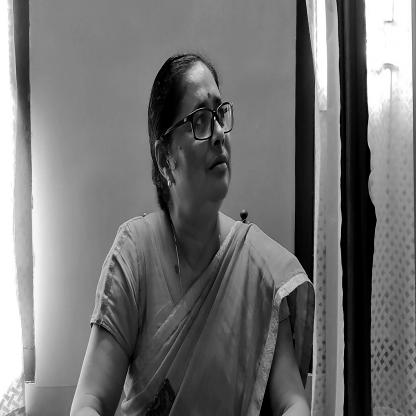Distracted: (142, 45, 242, 223)
